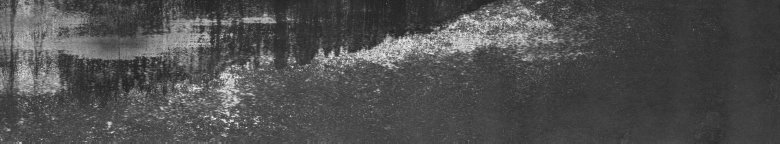kb: (4, 4, 630, 136)
